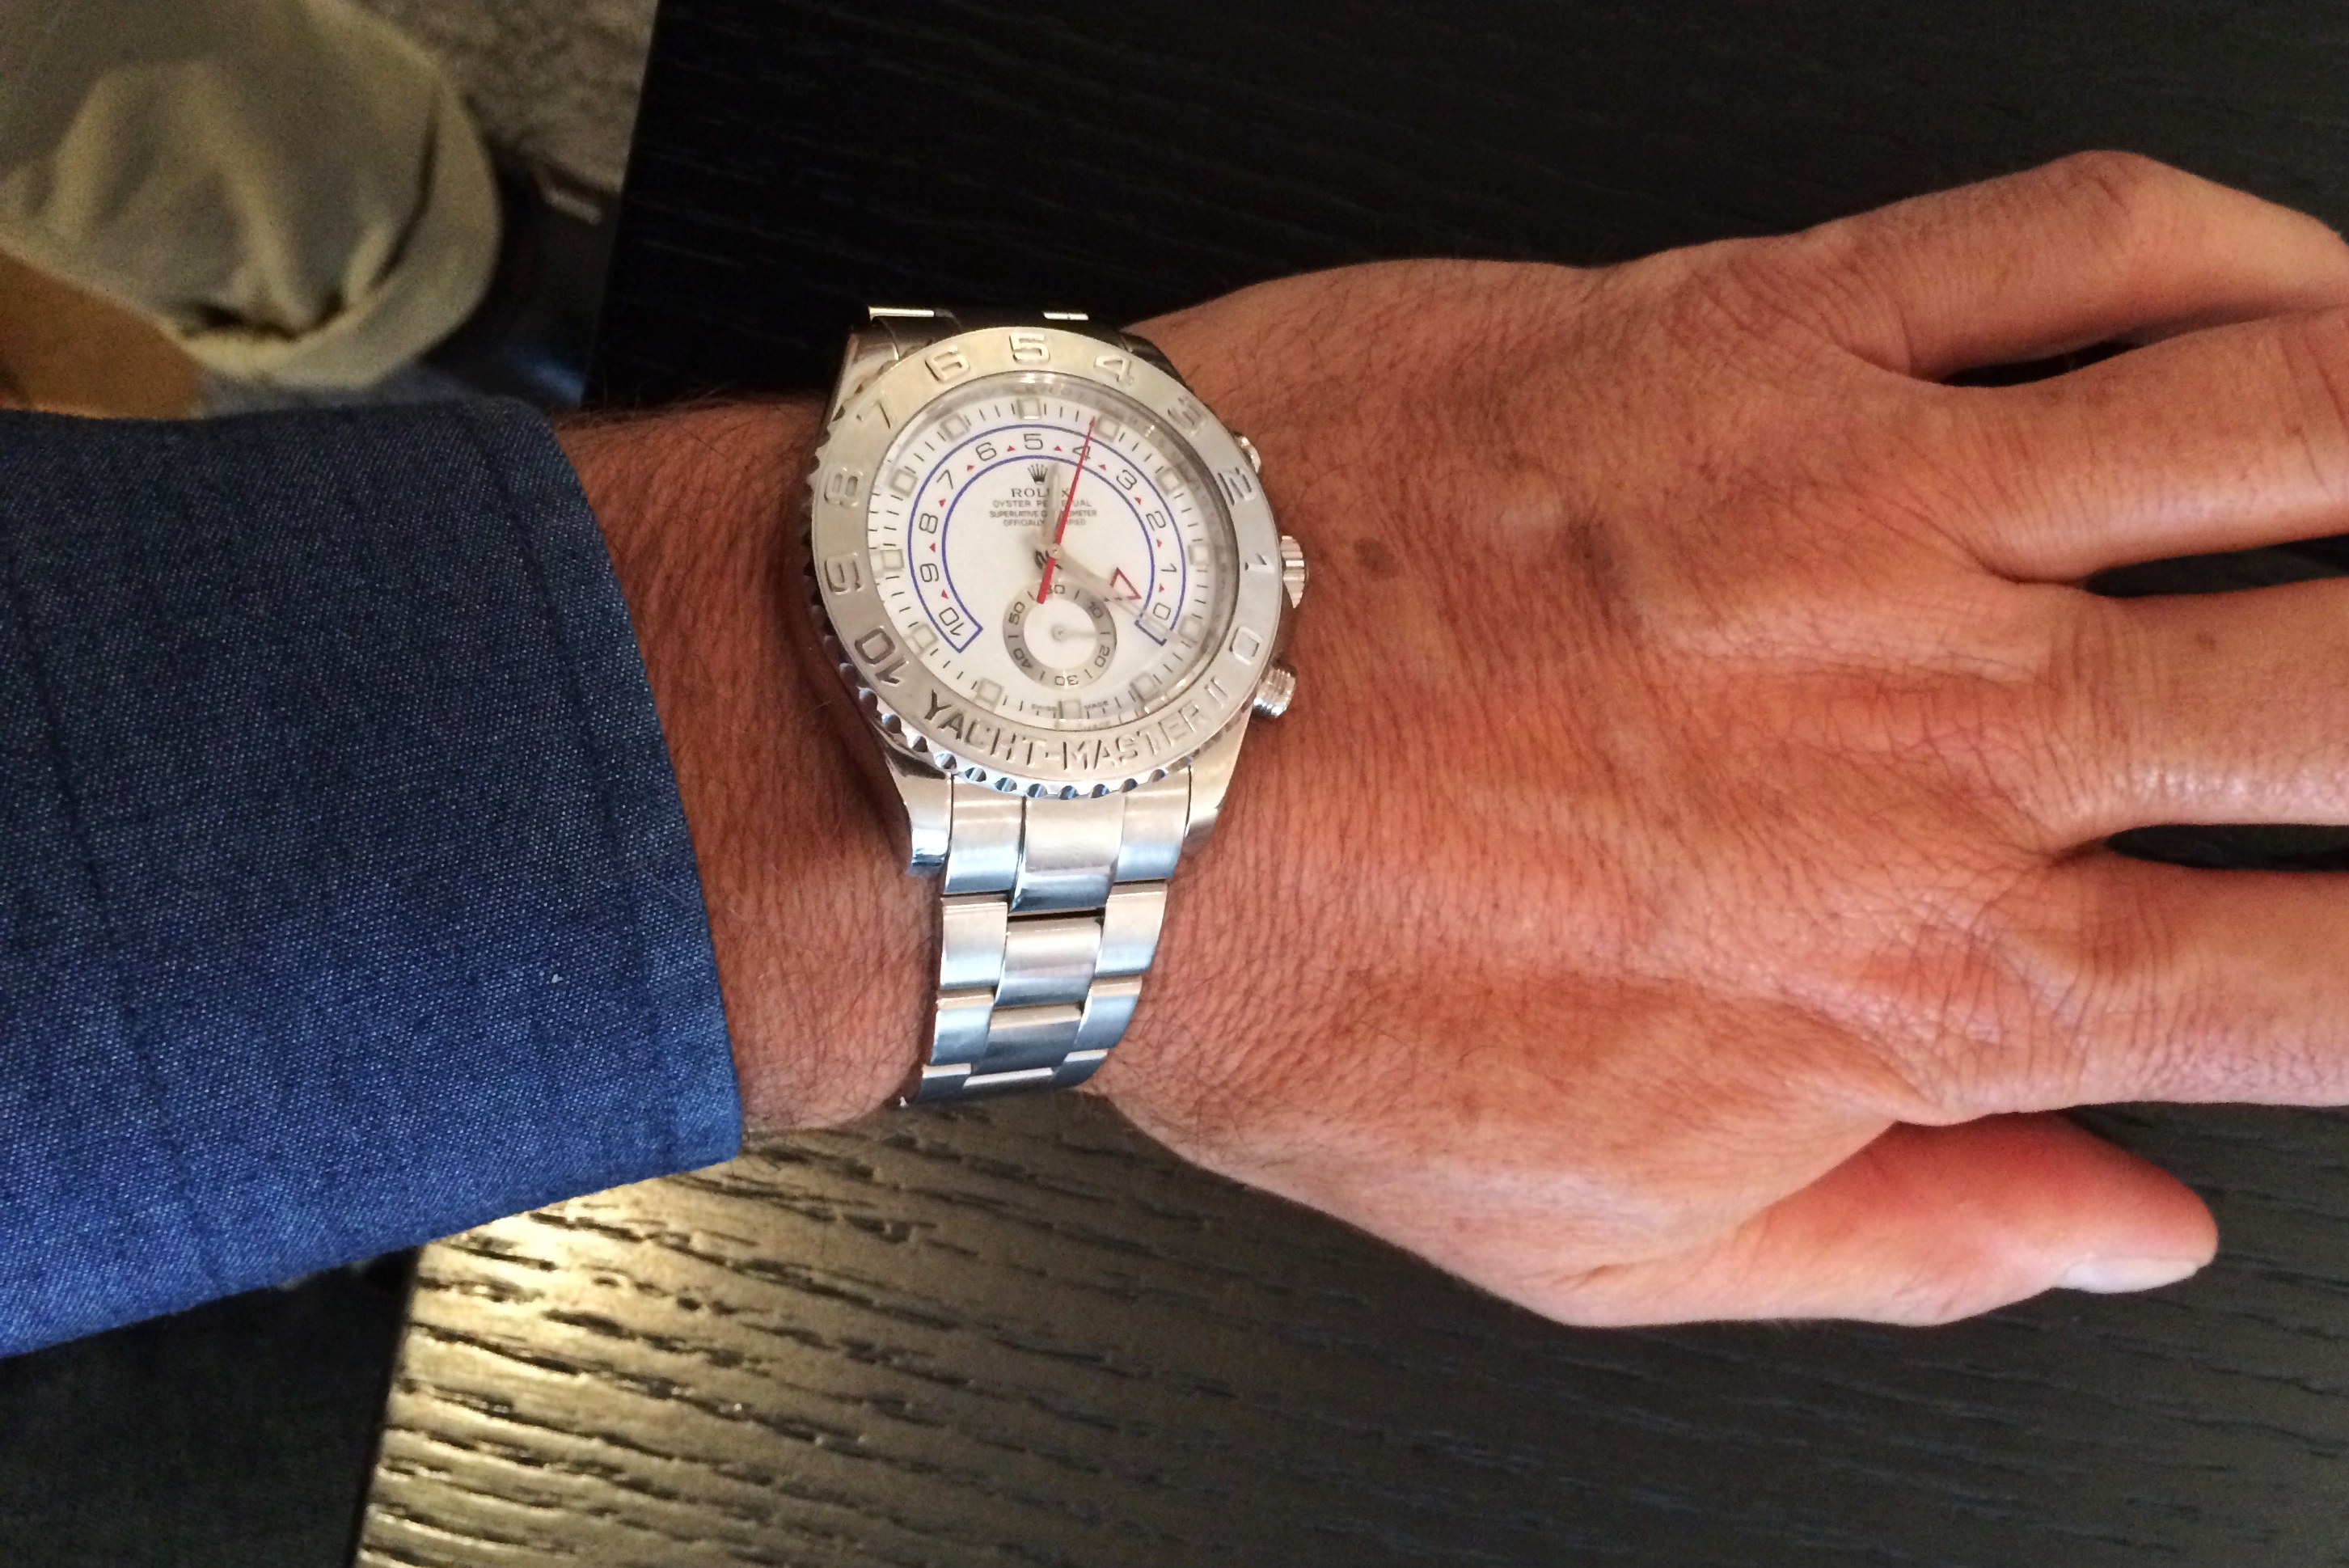clock: (868, 373, 1240, 733)
